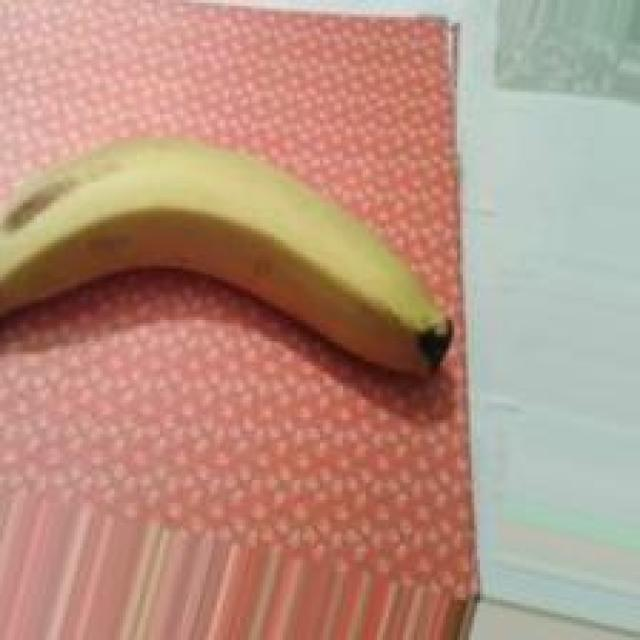banana: (4, 114, 466, 432)
